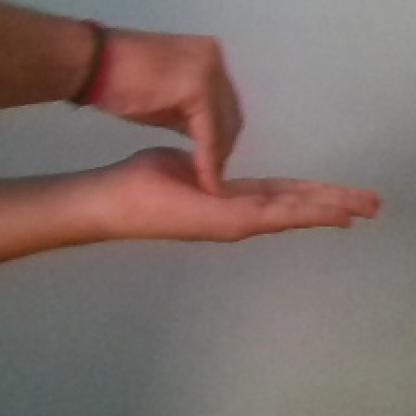Z: (108, 18, 403, 266)
